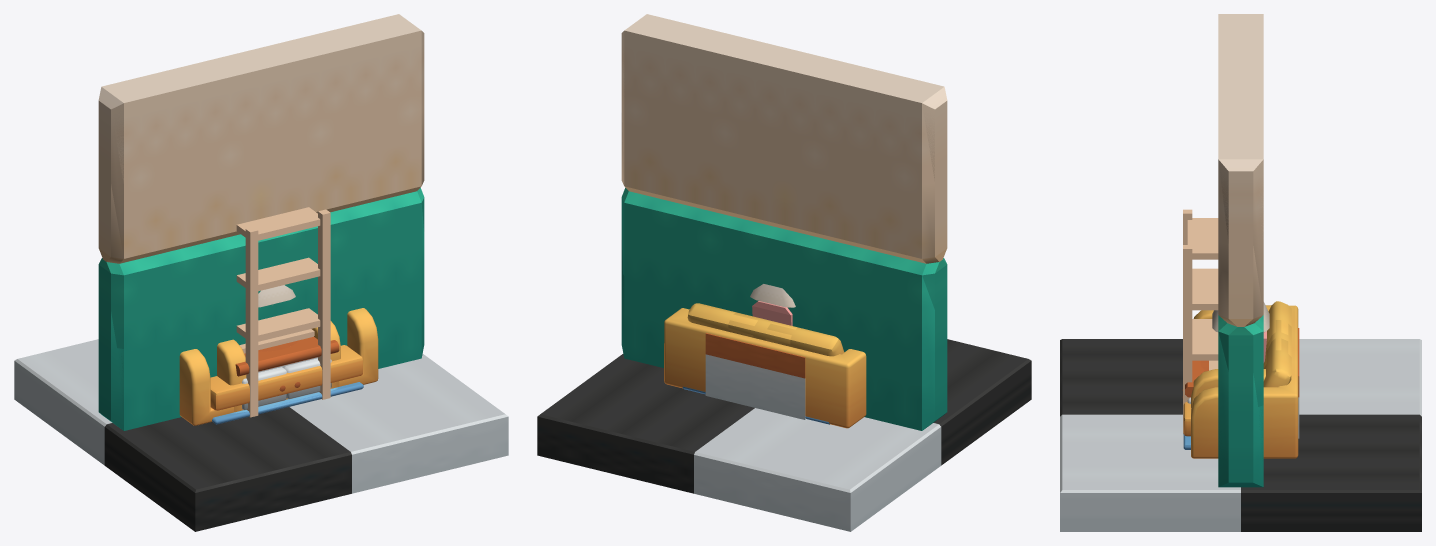
File: office-kit.glb
3 renders of one model, left to right at view 1: azimuth 30°, elevation 25°; view 2: azimuth 150°, elevation 25°; view 3: azimuth 270°, elevation 25°, orthographic.
Parts seen in each view (by area): view 1: wall, wall_window_closed, floor_kitchen, bookcaseOpen(Clone), couch_pillows, wall_doorway, kitchencounter_straight_B_backsplash, armchair_pillows, rug_rectangle_stripes_B, lamp_standing; view 2: wall, floor_kitchen, wall_window_closed, couch_pillows, wall_doorway, kitchencounter_straight_B_backsplash, armchair_pillows, lamp_standing, chair; view 3: floor_kitchen, wall, wall_window_closed, couch_pillows, bookcaseOpen(Clone), armchair_pillows, kitchencounter_straight_B_backsplash.
Boxes of the visible parts, x1,y1,x2,y2 form: wall: [98, 14, 424, 430]; wall_window_closed: [98, 14, 424, 430]; floor_kitchen: [14, 339, 508, 531]; bookcaseOpen(Clone): [236, 207, 330, 417]; couch_pillows: [179, 308, 378, 425]; wall_doorway: [98, 175, 421, 430]; kitchencounter_straight_B_backsplash: [235, 336, 339, 410]; armchair_pillows: [217, 321, 340, 412]; rug_rectangle_stripes_B: [212, 382, 363, 424]; lamp_standing: [258, 285, 295, 307]; wall: [621, 14, 947, 430]; floor_kitchen: [537, 339, 1031, 531]; wall_window_closed: [621, 14, 947, 430]; couch_pillows: [664, 303, 866, 428]; wall_doorway: [624, 175, 947, 430]; kitchencounter_straight_B_backsplash: [705, 333, 805, 419]; armchair_pillows: [703, 312, 808, 356]; lamp_standing: [750, 284, 795, 307]; chair: [752, 301, 792, 325]; floor_kitchen: [1060, 339, 1421, 531]; wall: [1218, 14, 1263, 487]; wall_window_closed: [1218, 14, 1263, 486]; couch_pillows: [1183, 301, 1298, 458]; bookcaseOpen(Clone): [1183, 209, 1218, 434]; armchair_pillows: [1191, 320, 1297, 407]; kitchencounter_straight_B_backsplash: [1182, 328, 1299, 438].
Size of the model in its own units: 2.4 by 2.7 by 2.4.
10 materials, 2 textured.
